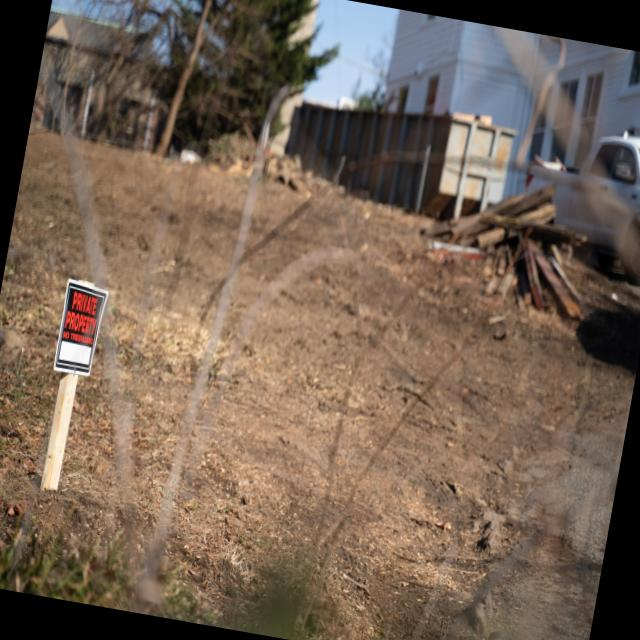House: (366, 9, 640, 253), (29, 13, 174, 148)
